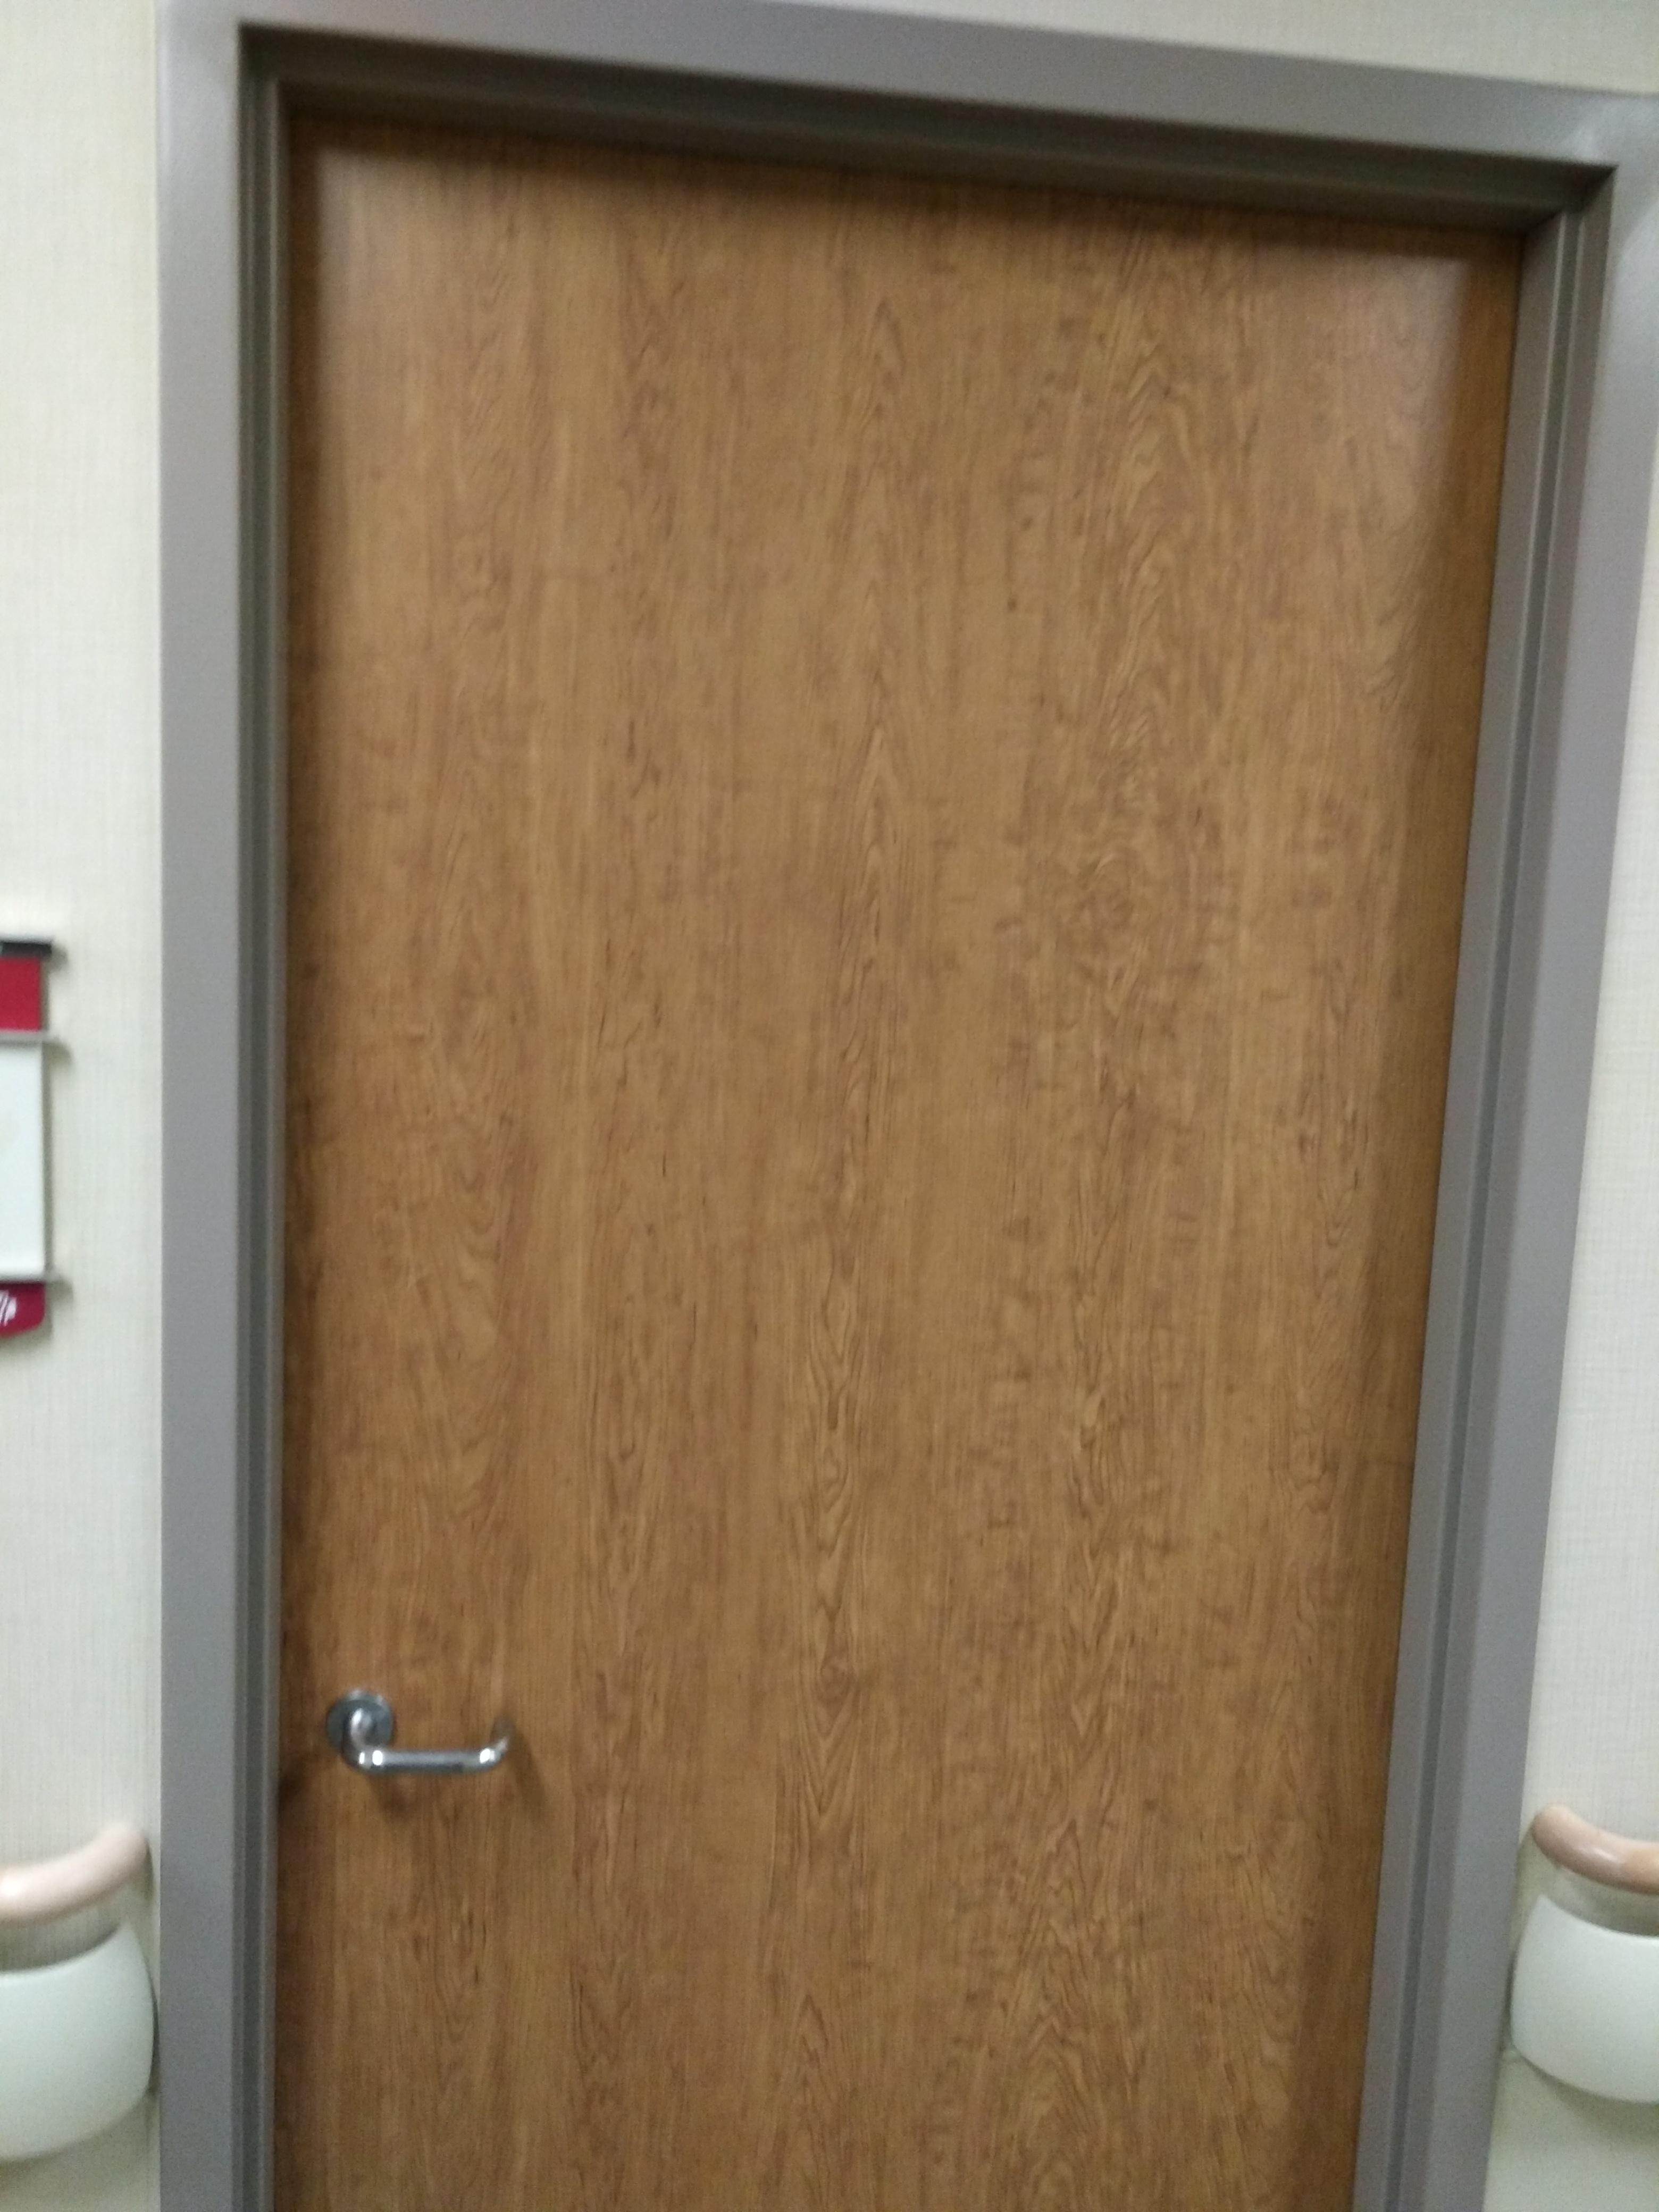door: (218, 9, 1446, 2212)
